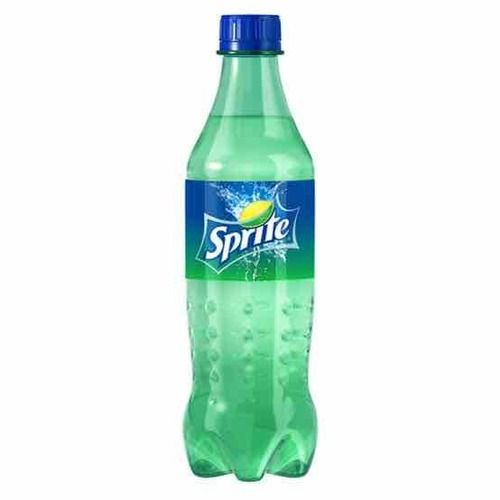sprite_bottle: (186, 15, 318, 483)
